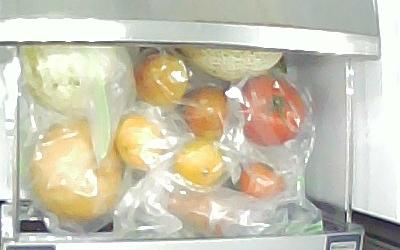cabbage_vinyl: (18, 45, 127, 116)
melon: (179, 46, 283, 80)
pear_vinyl: (28, 117, 123, 220)
prune_vinyl: (132, 50, 187, 106), (178, 84, 229, 137), (237, 160, 286, 198)
tangerine_vinyl: (114, 111, 163, 171), (169, 138, 225, 187)
tomato_vinyl: (239, 74, 305, 146)
